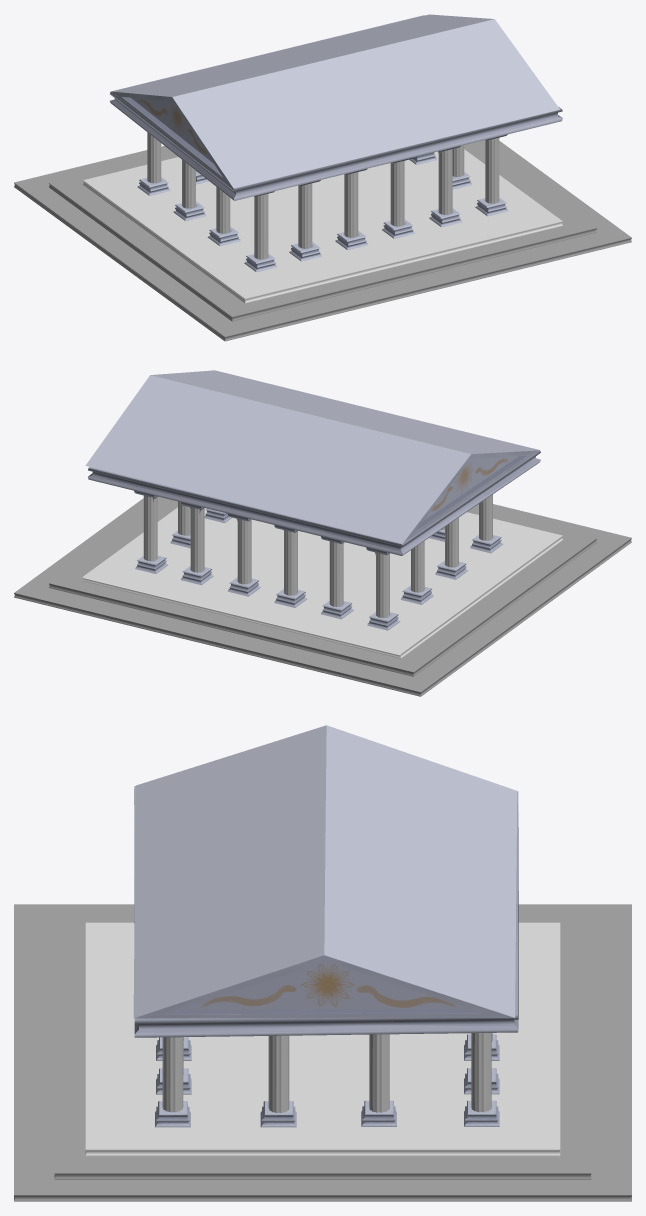
The model's file is full temple with platforms.fbx.
3 renders of one model, top to bottom at view 1: azimuth 30°, elevation 25°; view 2: azimuth 150°, elevation 25°; view 3: azimuth 270°, elevation 25°, orthographic. The views are drawn at different scales.
Visible parts, largest first — view 1: pCube51, pCube3, pCube18, pCube17, pCube8, pCylinder34, pCylinder32, pCylinder31, pCylinder8, pCylinder30, pCylinder33, pCylinder20 (+2 smaller); view 2: pCube51, pCube3, pCube18, pCube17, pCube8, pCylinder37, pCylinder39, pCylinder35, pCylinder36, pCylinder38, pCylinder20, pCylinder26 (+2 smaller); view 3: pCube51, pCube3, pCube18, pCube17, pCube8, pCylinder29, pCylinder35, pCylinder28, pCylinder34, pCube89, pCube106, pCube105 (+1 smaller).
Part boxes in pixels (x1,y1,x2,y2): pCube51: (111,14,559,188); pCube3: (83,149,562,303); pCube18: (14,140,631,341); pCube17: (49,141,596,321); pCube8: (110,15,562,200); pCylinder34: (485,137,499,203); pCylinder32: (390,161,404,226); pCylinder31: (344,172,358,237); pCylinder8: (254,194,268,259); pCylinder30: (298,183,312,248); pCylinder33: (438,149,452,214); pCylinder20: (147,132,161,183); pCube51: (85,370,539,543); pCube3: (83,507,562,658); pCube18: (14,496,631,696); pCube17: (49,498,596,676); pCube8: (88,370,540,555); pCylinder37: (237,519,251,584); pCylinder39: (329,541,343,606); pCylinder35: (143,495,157,561); pCylinder36: (190,507,204,572); pCylinder38: (284,530,297,595); pCylinder20: (376,552,389,617); pCylinder26: (411,541,424,592); pCube51: (133,725,517,1018); pCube3: (85,922,560,1156); pCube18: (14,904,631,1201); pCube17: (54,912,591,1179); pCube8: (134,786,518,1037); pCylinder29: (268,1035,289,1112); pCylinder35: (471,1033,491,1112); pCylinder28: (369,1034,389,1112); pCylinder34: (162,1037,183,1112); pCube89: (260,1101,296,1127); pCube106: (155,1101,190,1127); pCube105: (464,1100,499,1126).
Size of the model in its own units: 18.42 by 6.62 by 16.54.
